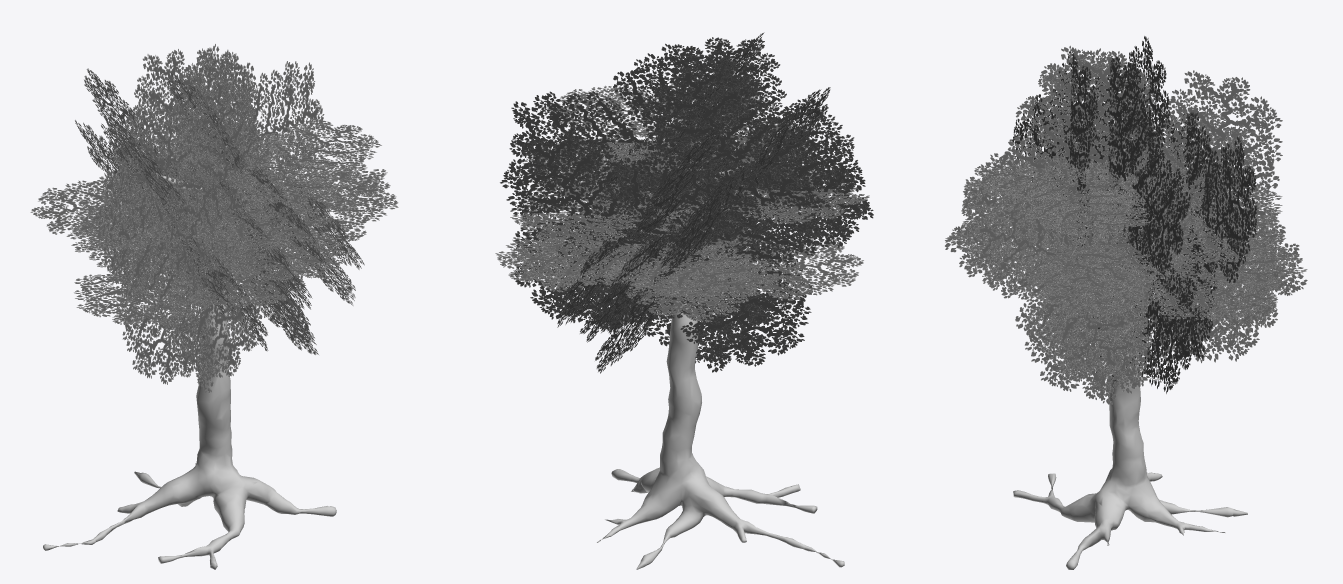
Rendered from Trees.fbx.
3 renders of one model, left to right at view 1: azimuth 30°, elevation 25°; view 2: azimuth 150°, elevation 25°; view 3: azimuth 270°, elevation 25°, orthographic. The views are drawn at different scales.
Parts seen in each view (by area): view 1: Tree; view 2: Tree; view 3: Tree.
Part boxes in pixels (x1,y1,x2,y2): Tree: (30,44,398,569); Tree: (495,32,873,569); Tree: (945,36,1307,569).
Size of the model in its own units: 667 by 877 by 657.
